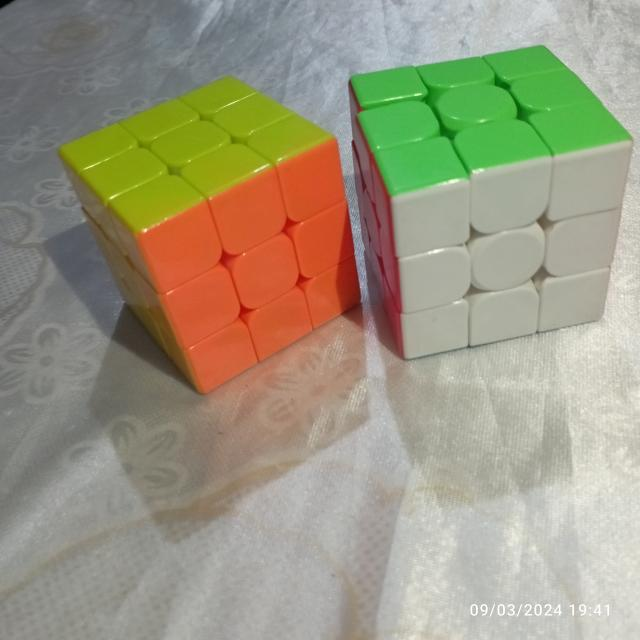Rub: (50, 70, 369, 397), (344, 39, 638, 362)
